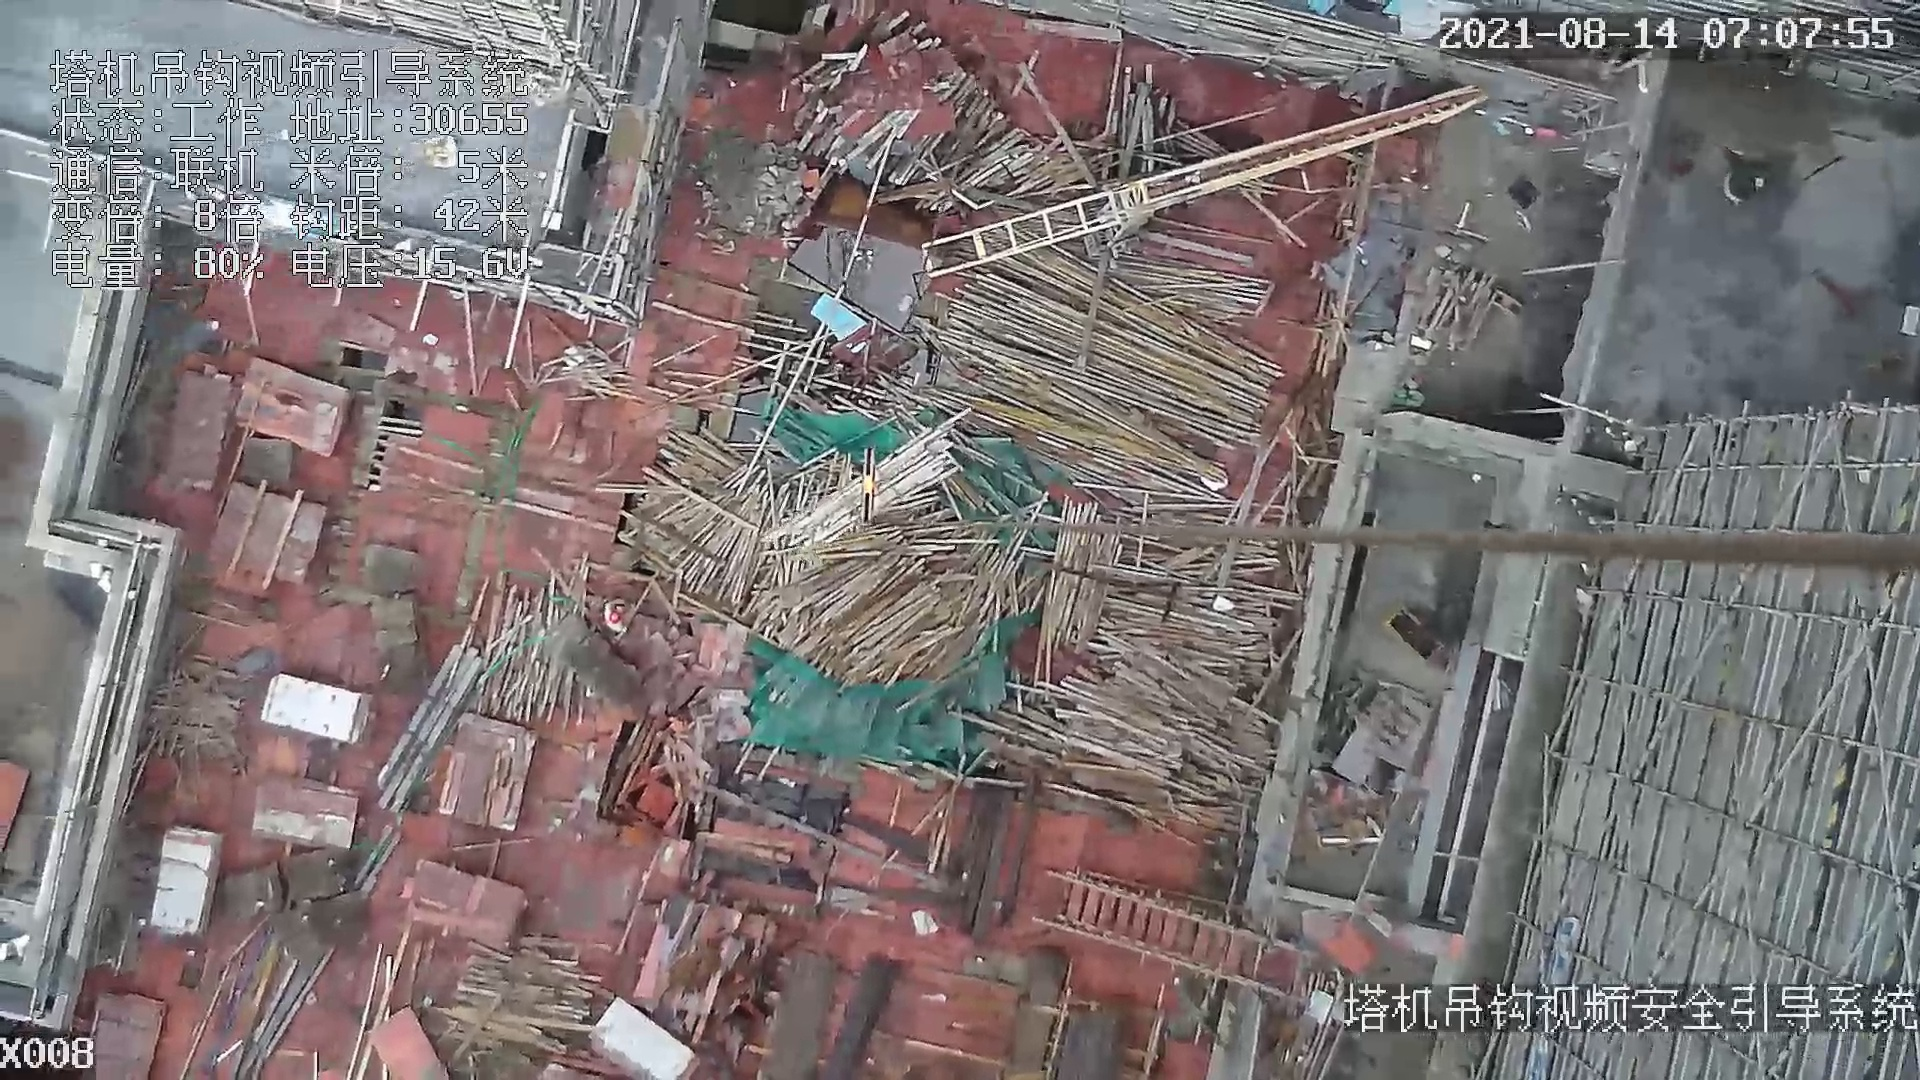hook: (856, 444, 882, 530)
